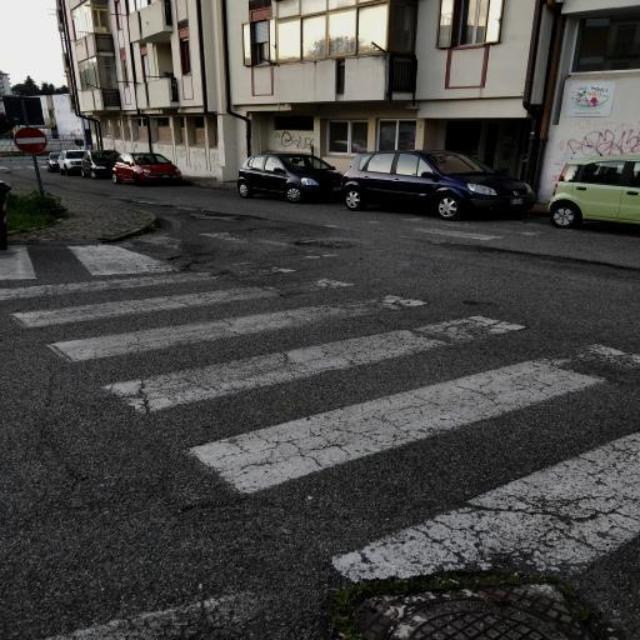sidewalk: (0, 222, 640, 640)
